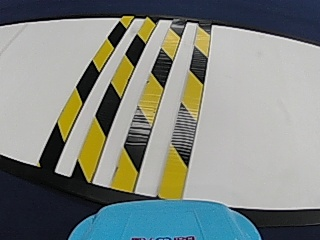bump: (39, 21, 221, 187)
